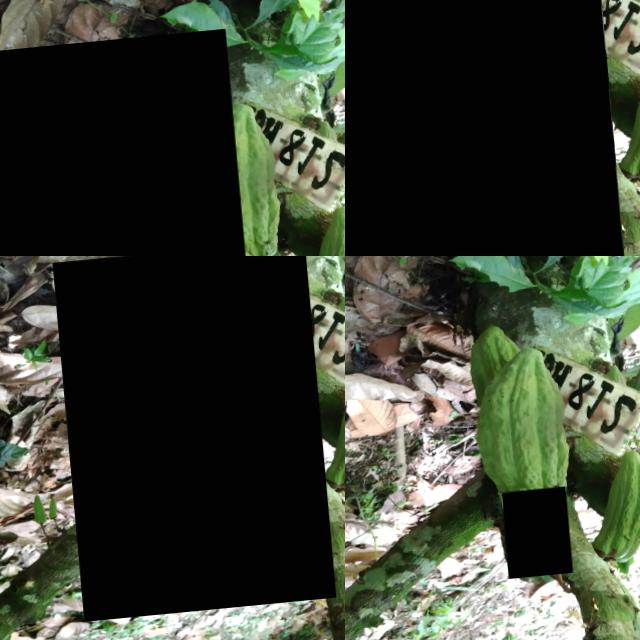Sana: (49, 256, 326, 625), (345, 0, 618, 256), (0, 36, 253, 256), (463, 354, 563, 517), (581, 462, 640, 573), (495, 495, 565, 586), (464, 339, 511, 396)
